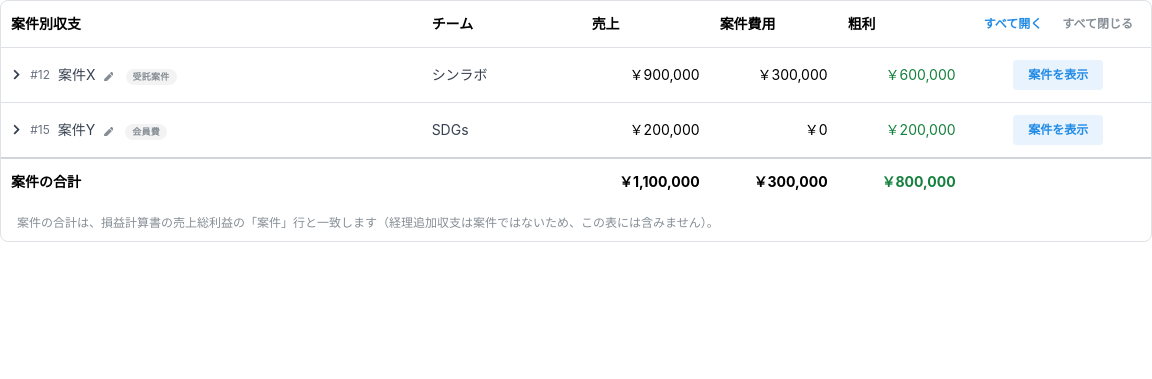
Test: MatterProfitTable › チームの階層なしで案件を ID 順に並べ、チーム列と案件の売上・費用・粗利を表示する（Issue #152）
Expected: the text "シンラボ" is shown, [422, 48, 582, 102]
Expected: the text "SDGs" is shown, [422, 102, 582, 158]
Click the button "#12 案件X" at (53, 75), box [11, 64, 96, 86]
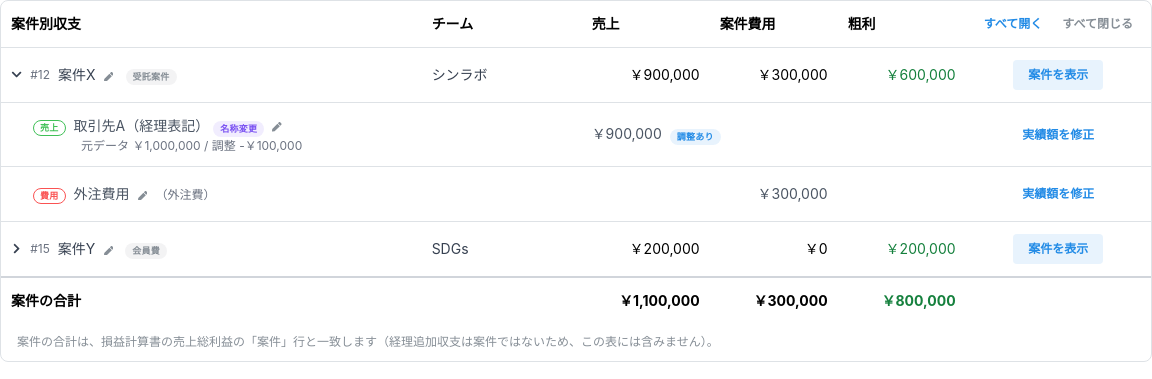
Expected: the text "取引先A（経理表記）" is shown, [74, 117, 209, 134]
Expected: the button with aria-label "元の名称: 取引先A" is shown, [213, 116, 264, 138]
Expected: the text "外注費用" is shown, [74, 185, 130, 202]
